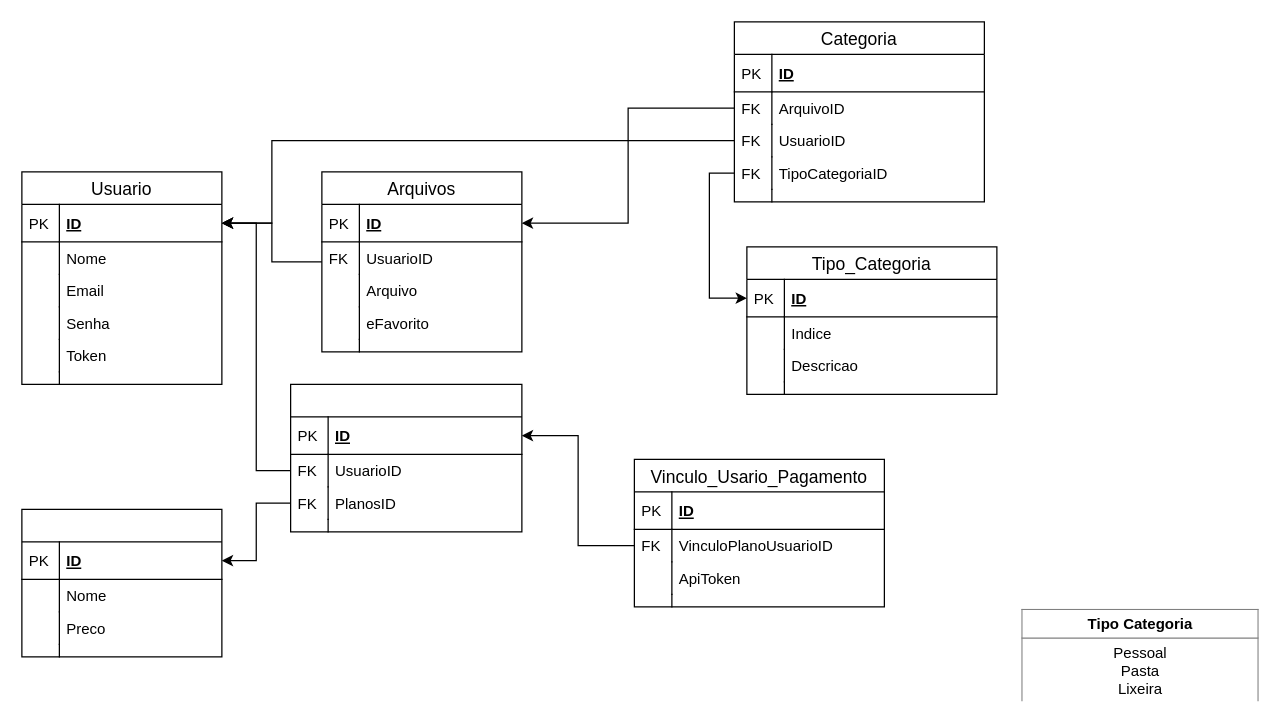
This 1281x724 diagram has some shape labels left out. The box of each missing label's shape, as (x1, y1, x2, y2) in pixels:
Planos: (21, 508, 222, 657)
Vinculo_Planos_Usuario: (289, 383, 522, 532)
